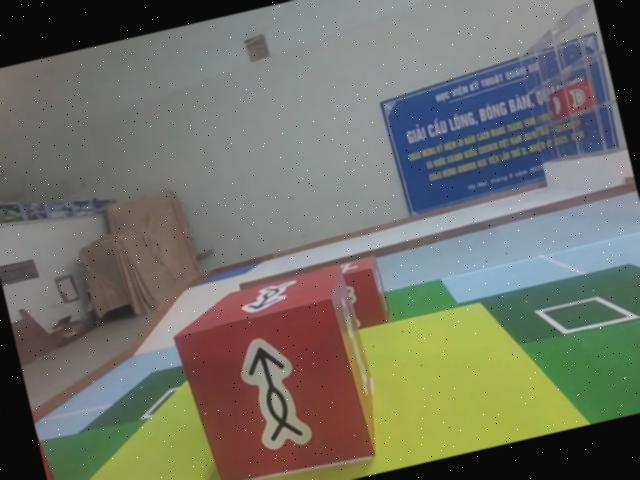R2 Real: (166, 262, 394, 480)
